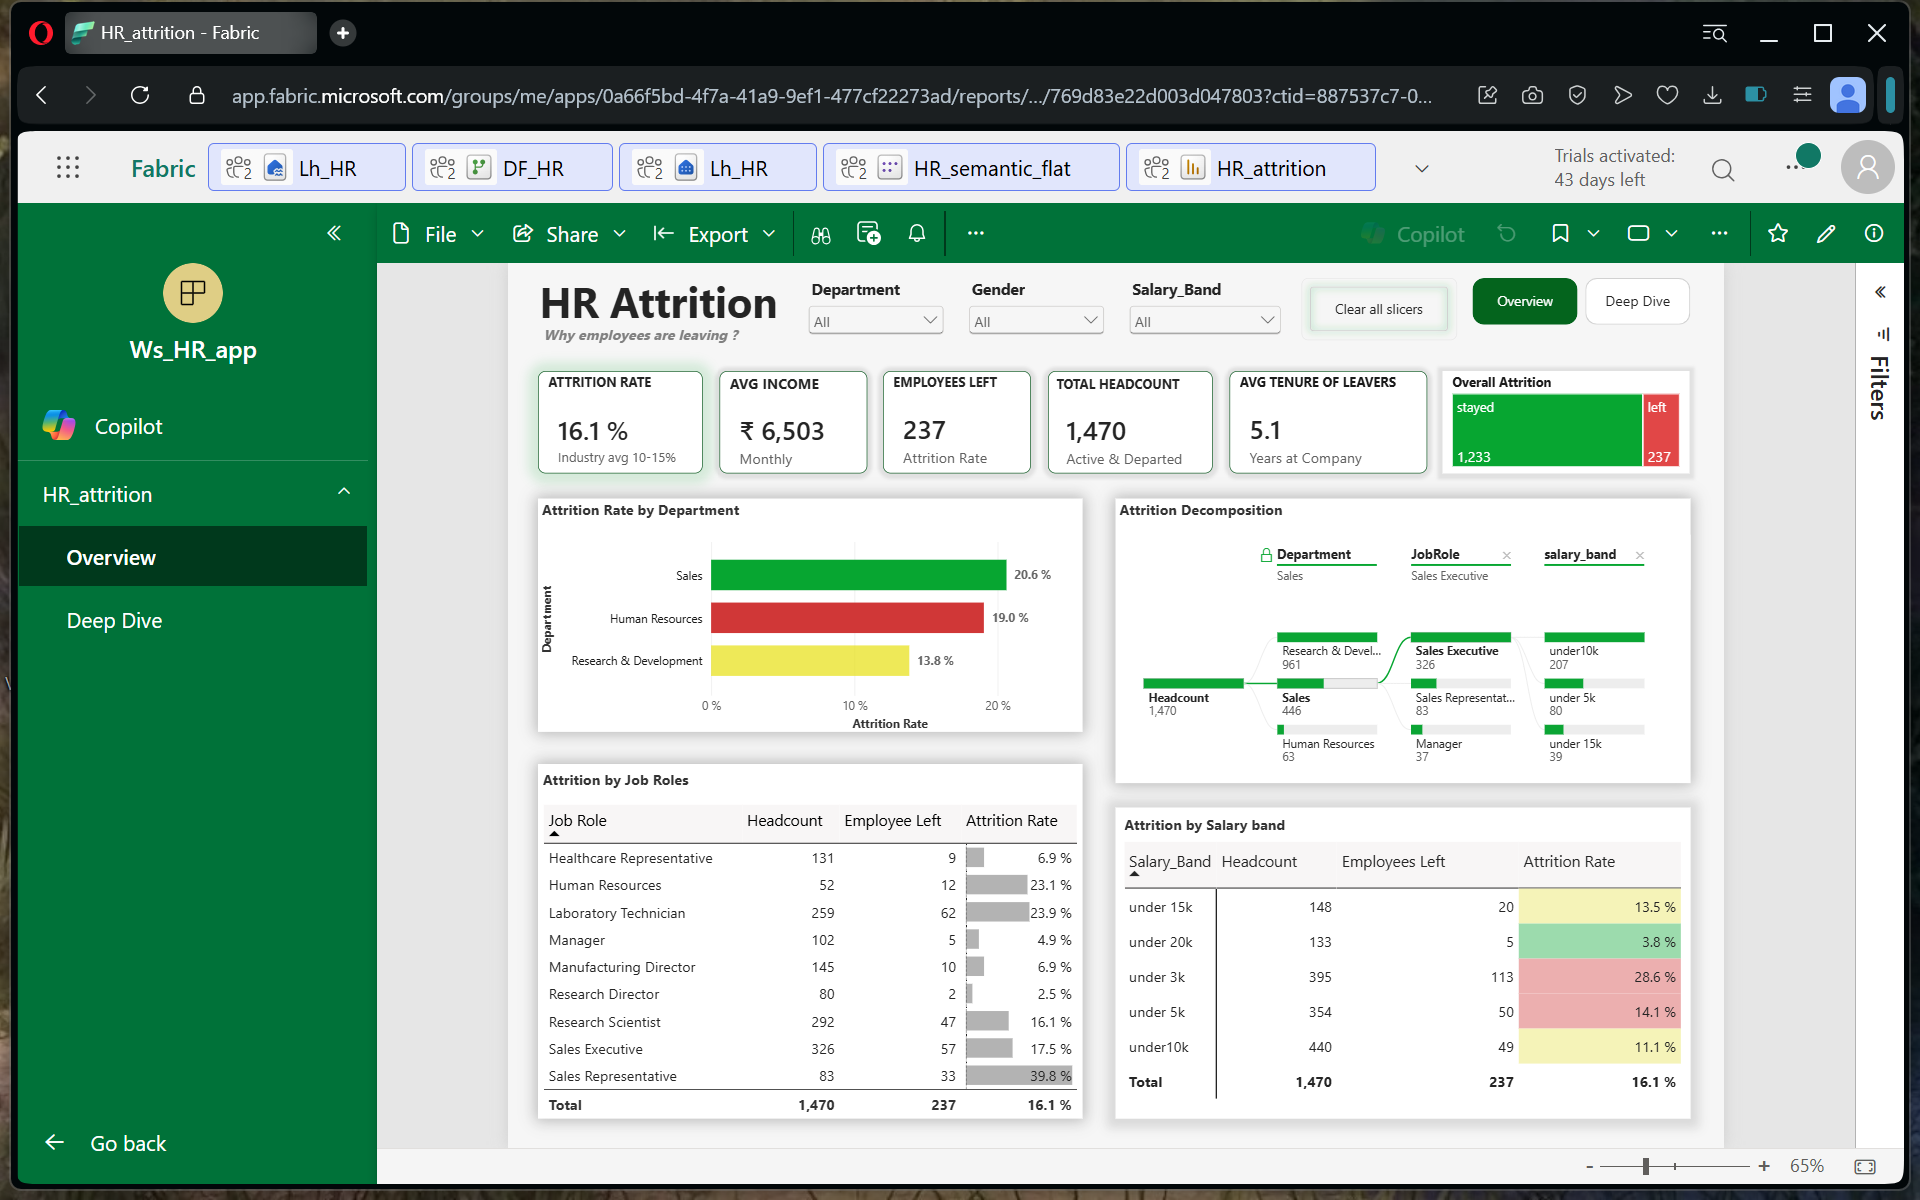

The dashboard page shown, as its layout file describes it:
{"tool":"powerbi","page":{"name":"Overview","canvas":[1250,910],"ordinal":0},"visuals":[{"type":"textbox","box":[32,0,272,80],"z":0},{"type":"slicer","fields":{"Values":["HR_employees.Gender"]},"box":[469.3,16,148.8,80],"z":0,"group":"g1"},{"type":"slicer","fields":{"Values":["HR_employees.Department"]},"box":[304,16,148.8,64],"z":1000,"group":"g1"},{"type":"textbox","box":[32,64,208,32],"z":1000},{"type":"cardVisual","title":"AVG TENURE OF LEAVERS","fields":{"Data":["HR_employees.leavers avg Tenure"]},"box":[742.4,112,203,128],"z":1000,"group":"g2"},{"type":"slicer","fields":{"Values":["HR_employees.Income_Range"]},"box":[634.7,16,165.3,64],"z":2000,"group":"g1"},{"type":"actionButton","box":[816,16,160,64],"z":2000},{"type":"cardVisual","title":"ATTRITION RATE","fields":{"Data":["HR_employees.Attrition Rate"]},"box":[32,112,169.1,128],"z":2000,"group":"g2"},{"type":"pageNavigator","box":[992,16,224,48],"z":3000},{"type":"group","id":"g1","title":"Group 1","box":[304,16,496,80],"z":4000},{"type":"cardVisual","title":"TOTAL HEADCOUNT","fields":{"Data":["HR_employees.HEADCOUNT"]},"box":[556.3,112,169.1,128],"z":4000,"group":"g2"},{"type":"group","id":"g2","title":"Group 2","box":[32,112,1184,128],"z":5000},{"type":"cardVisual","title":"EMPLOYEES LEFT","fields":{"Data":["HR_employees.EMPLOYEES LEFT"]},"box":[387.2,112,152.2,128],"z":6000,"group":"g2"},{"type":"decompositionTreeVisual","title":"Attrition Decomposition","fields":{"Analyze":["HR_employees.HEADCOUNT"],"ExplainBy":["HR_employees.Department","HR_employees.JobRole","HR_employees.Income_Range"]},"box":[624,256,592,272],"z":6000},{"type":"cardVisual","title":"AVG INCOME","fields":{"Data":["HR_employees.Avg Income"]},"box":[218.1,112,152.2,128],"z":7000,"group":"g2"},{"type":"clusteredBarChart","fields":{"Category":["HR_employees.Department"],"Y":["HR_employees.Attrition Rate"]},"box":[32,256,560,240],"z":7000},{"type":"tableEx","title":"Attrition by Job Roles","fields":{"Values":["HR_employees.JobRole","HR_employees.HEADCOUNT","HR_employees.EMPLOYEES LEFT","HR_employees.Attrition Rate"]},"box":[32,528,560,352],"z":8000},{"type":"pivotTable","title":"Attrition by Salary band ","fields":{"Rows":["HR_employees.Income_Range"],"Values":["HR_employees.HEADCOUNT","HR_employees.EMPLOYEES LEFT","HR_employees.Attrition Rate"]},"box":[624,560,592,320],"z":9000},{"type":"treemap","title":"Overall Attrition","fields":{"Values":["HR_employees.EMPLOYEES LEFT","HR_employees.Employee stayed"]},"box":[962.3,112,253.7,128],"z":10000,"group":"g2"}]}

Visuals, with their boxes on the page's 1250x910 design canvas (x1, y1, x2, y2). These are canvas units, not pixel positions in the 1920x1200 screenshot, which may show the page scaled, cropped or inside an application window:
textbox: <box>32,0,304,80</box>
slicer - HR_employees.Gender: <box>469,16,618,96</box>
slicer - HR_employees.Department: <box>304,16,453,80</box>
textbox: <box>32,64,240,96</box>
"AVG TENURE OF LEAVERS" cardVisual: <box>742,112,945,240</box>
slicer - HR_employees.Income_Range: <box>635,16,800,80</box>
actionButton: <box>816,16,976,80</box>
"ATTRITION RATE" cardVisual: <box>32,112,201,240</box>
pageNavigator: <box>992,16,1216,64</box>
"Group 1" group: <box>304,16,800,96</box>
"TOTAL HEADCOUNT" cardVisual: <box>556,112,725,240</box>
"Group 2" group: <box>32,112,1216,240</box>
"EMPLOYEES LEFT" cardVisual: <box>387,112,539,240</box>
"Attrition Decomposition" decompositionTreeVisual: <box>624,256,1216,528</box>
"AVG INCOME" cardVisual: <box>218,112,370,240</box>
clusteredBarChart - HR_employees.Department x HR_employees.Attrition Rate: <box>32,256,592,496</box>
"Attrition by Job Roles" tableEx: <box>32,528,592,880</box>
"Attrition by Salary band " pivotTable: <box>624,560,1216,880</box>
"Overall Attrition" treemap: <box>962,112,1216,240</box>
